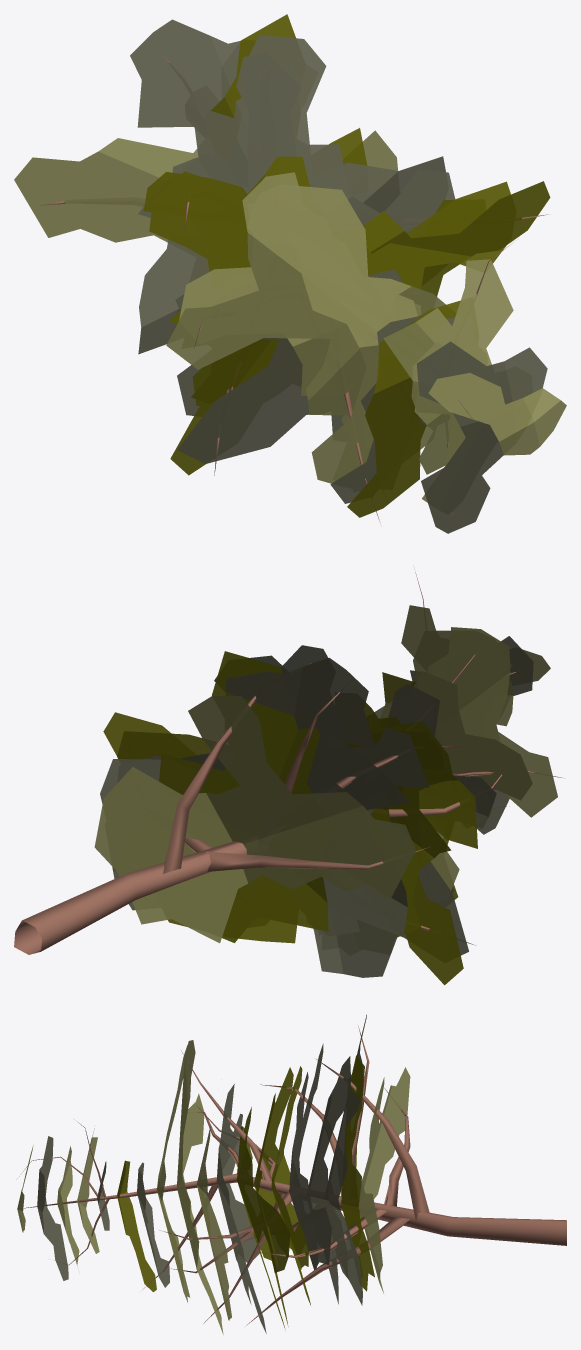
File: Tree1.obj
3 views of the same model, one above another, from view 1: azimuth 30°, elevation 25°; view 2: azimuth 150°, elevation 25°; view 3: azimuth 270°, elevation 25° (orthographic). The views are drawn at different scales.
Visible parts, largest first — view 1: group_1.001_ID14.004; view 2: group_1.001_ID14.004; view 3: group_1.001_ID14.004.
Boxes of the visible parts, box(x1,y1,x2,y2) form: group_1.001_ID14.004: box(14, 14, 566, 533); group_1.001_ID14.004: box(14, 572, 562, 985); group_1.001_ID14.004: box(16, 1014, 566, 1334).
Bounding box in the file's own units: 7.54 × 6.94 × 12.25.
